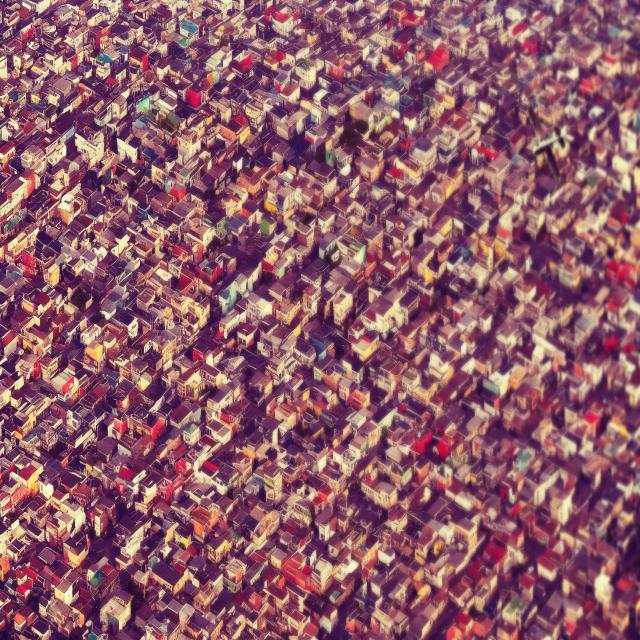airplane: (530, 120, 568, 177)
